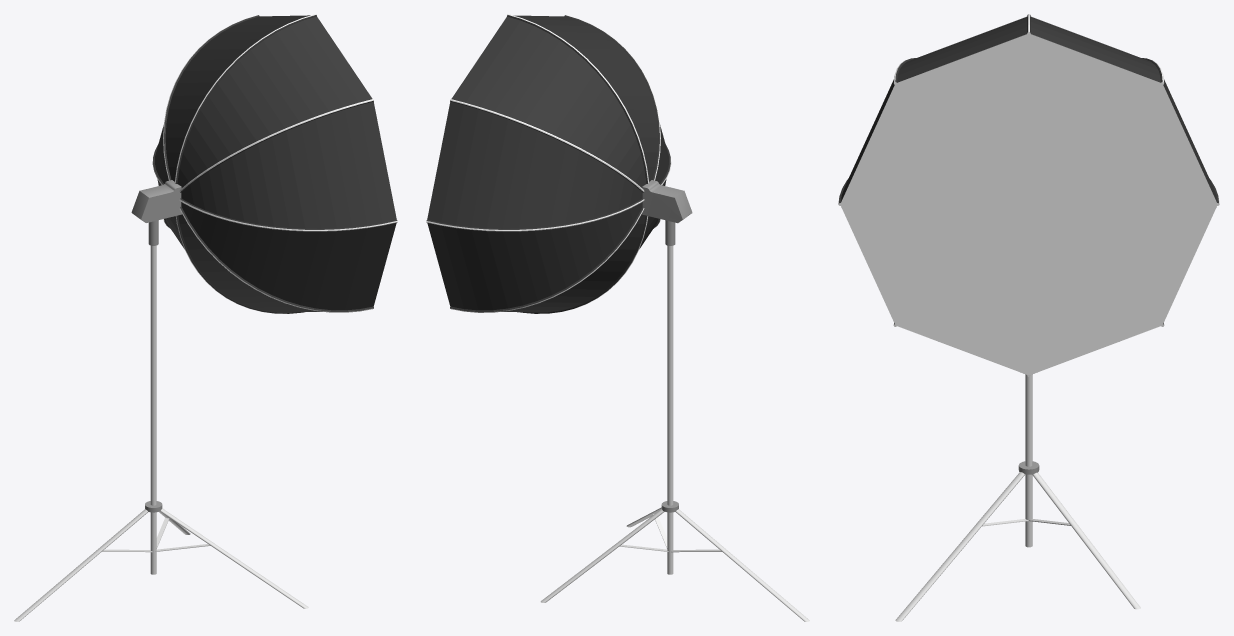
File: LightSmall.glb
The picture shows the model from 3 angles, left to right: view 1: azimuth 30°, elevation 25°; view 2: azimuth 150°, elevation 25°; view 3: azimuth 270°, elevation 25°; orthographic projection. The views are drawn at different scales.
Parts seen in each view (by area): view 1: Shade, Stand; view 2: Shade, Stand; view 3: Shade, Stand.
Boxes of the visible parts, x1,y1,x2,y2 form: Shade: [152, 14, 397, 313]; Stand: [14, 180, 308, 621]; Shade: [426, 14, 671, 313]; Stand: [540, 180, 809, 621]; Shade: [838, 14, 1219, 376]; Stand: [895, 374, 1140, 621].
Bounding box in the file's own units: 0.9383 × 1.6 × 0.8799.
Materials: 6 (1 with a texture image).
